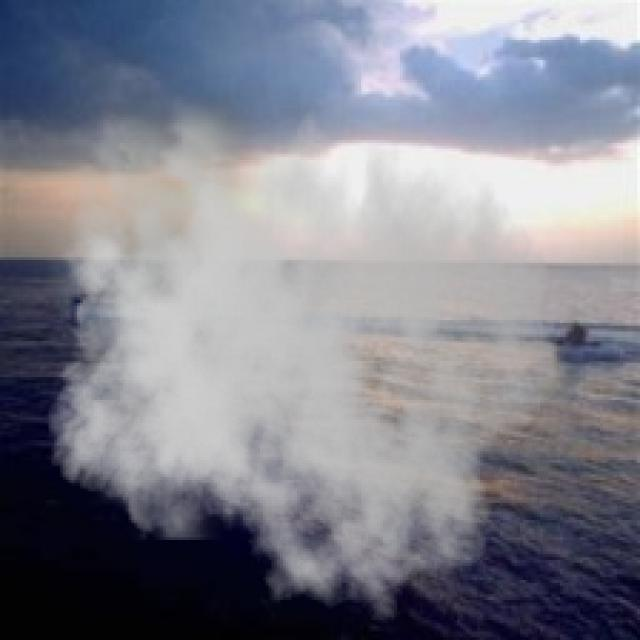smoke: (31, 74, 560, 623)
